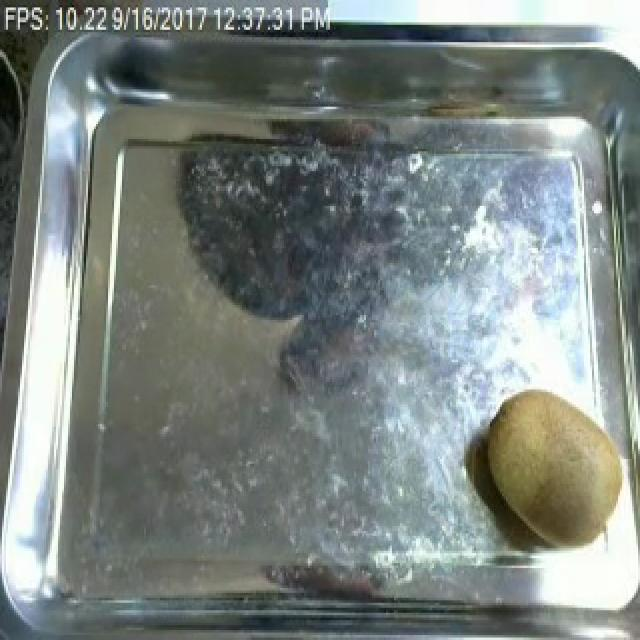Fruit: (478, 377, 638, 558)
